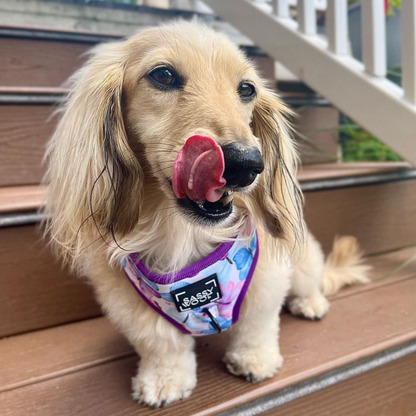dachshund: (46, 37, 384, 391)
